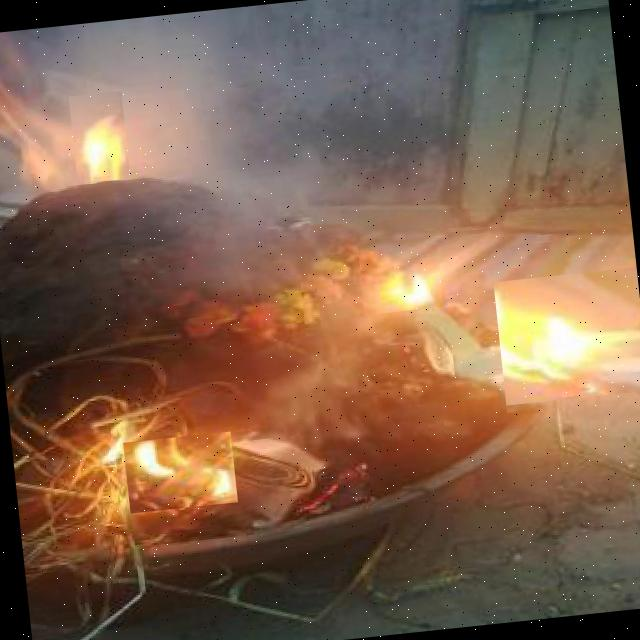fire: (493, 267, 640, 405), (122, 431, 238, 513), (356, 228, 444, 314), (68, 90, 130, 184)
